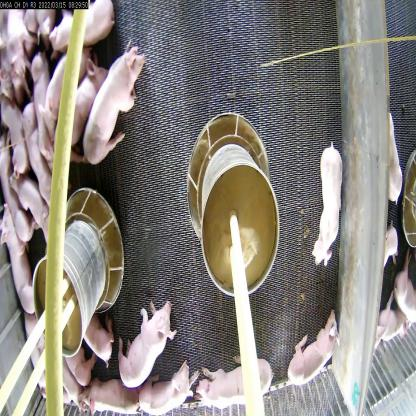Pig: (86, 37, 152, 171), (57, 53, 110, 157), (308, 132, 347, 266), (190, 358, 277, 414), (123, 298, 178, 384), (292, 313, 342, 390), (0, 206, 34, 311), (20, 102, 52, 211), (52, 4, 118, 52), (140, 368, 201, 415), (12, 176, 53, 245), (24, 52, 53, 145), (90, 370, 143, 415), (83, 319, 102, 361)
